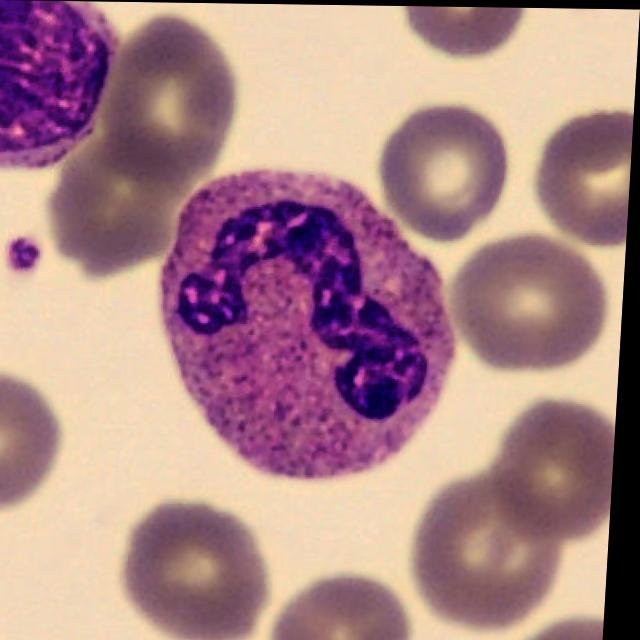Neutrofilo segmentado: (161, 166, 461, 478)
